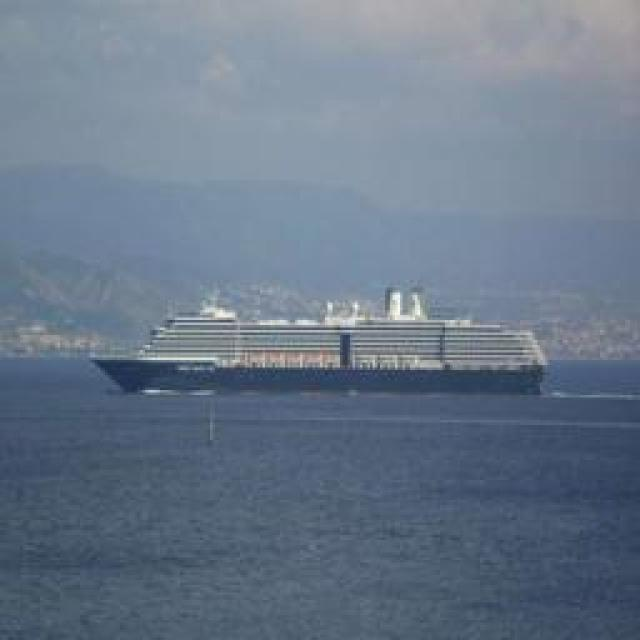CIV_Ship: (105, 305, 545, 393)
